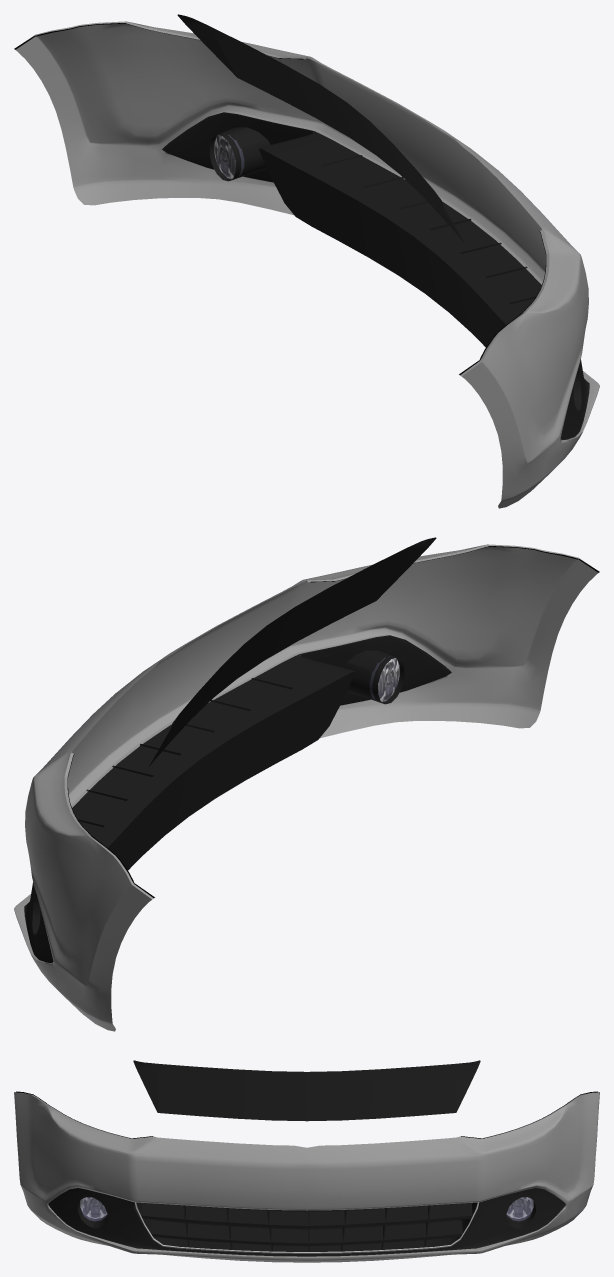
3 renders of one model, top to bottom at view 1: azimuth 30°, elevation 25°; view 2: azimuth 150°, elevation 25°; view 3: azimuth 270°, elevation 25°, orthographic. The views are drawn at different scales.
Parts seen in each view (by area): view 1: X6166_021G_C_X6166_021G_C_4_DaS, X6166_021G_C_X6166_021G_C_3_D, X6166_021G_C_X6166_021G_C_2_D, X6166_021G_C_X6166_021G_C_4_DaS_E, X6166_021G_C_X6166_021G_C_5_N; view 2: X6166_021G_C_X6166_021G_C_4_DaS, X6166_021G_C_X6166_021G_C_3_D, X6166_021G_C_X6166_021G_C_2_D, X6166_021G_C_X6166_021G_C_4_DaS_E, X6166_021G_C_1_N_X6166_021G_C; view 3: X6166_021G_C_X6166_021G_C_4_DaS, X6166_021G_C_X6166_021G_C_3_D, X6166_021G_C_X6166_021G_C_2_D, X6166_021G_C_X6166_021G_C_4_DaS_E, X6166_021G_C_X6166_021G_C_7_DaS, X6166_021G_C_X6166_021G_C_6_DTaSI, X6166_021G_C_X6166_021G_C_9_DTaSI, X6166_021G_C_1_N_X6166_021G_C, X6166_021G_C_X6166_021G_C_5_N, X6166_021G_C_X6166_021G_C_8_D.
Part boxes in pixels (left/top/right/bottom): X6166_021G_C_X6166_021G_C_4_DaS: left=16, top=22, right=599, bottom=508; X6166_021G_C_X6166_021G_C_3_D: left=162, top=112, right=589, bottom=439; X6166_021G_C_X6166_021G_C_2_D: left=177, top=14, right=505, bottom=347; X6166_021G_C_X6166_021G_C_4_DaS_E: left=16, top=21, right=599, bottom=440; X6166_021G_C_X6166_021G_C_5_N: left=214, top=135, right=235, bottom=178; X6166_021G_C_X6166_021G_C_4_DaS: left=14, top=545, right=597, bottom=1031; X6166_021G_C_X6166_021G_C_3_D: left=24, top=635, right=451, bottom=962; X6166_021G_C_X6166_021G_C_2_D: left=108, top=537, right=436, bottom=870; X6166_021G_C_X6166_021G_C_4_DaS_E: left=14, top=544, right=597, bottom=963; X6166_021G_C_1_N_X6166_021G_C: left=378, top=658, right=399, bottom=701; X6166_021G_C_X6166_021G_C_4_DaS: left=14, top=1092, right=599, bottom=1262; X6166_021G_C_X6166_021G_C_3_D: left=48, top=1188, right=565, bottom=1256; X6166_021G_C_X6166_021G_C_2_D: left=133, top=1060, right=480, bottom=1229; X6166_021G_C_X6166_021G_C_4_DaS_E: left=14, top=1092, right=599, bottom=1257; X6166_021G_C_X6166_021G_C_7_DaS: left=135, top=1202, right=479, bottom=1253; X6166_021G_C_X6166_021G_C_6_DTaSI: left=507, top=1197, right=532, bottom=1221; X6166_021G_C_X6166_021G_C_9_DTaSI: left=81, top=1197, right=106, bottom=1221; X6166_021G_C_1_N_X6166_021G_C: left=80, top=1197, right=107, bottom=1218; X6166_021G_C_X6166_021G_C_5_N: left=506, top=1197, right=533, bottom=1218; X6166_021G_C_X6166_021G_C_8_D: left=16, top=1091, right=597, bottom=1138.
Size of the model in its own units: 66.4 by 61.17 by 205.
